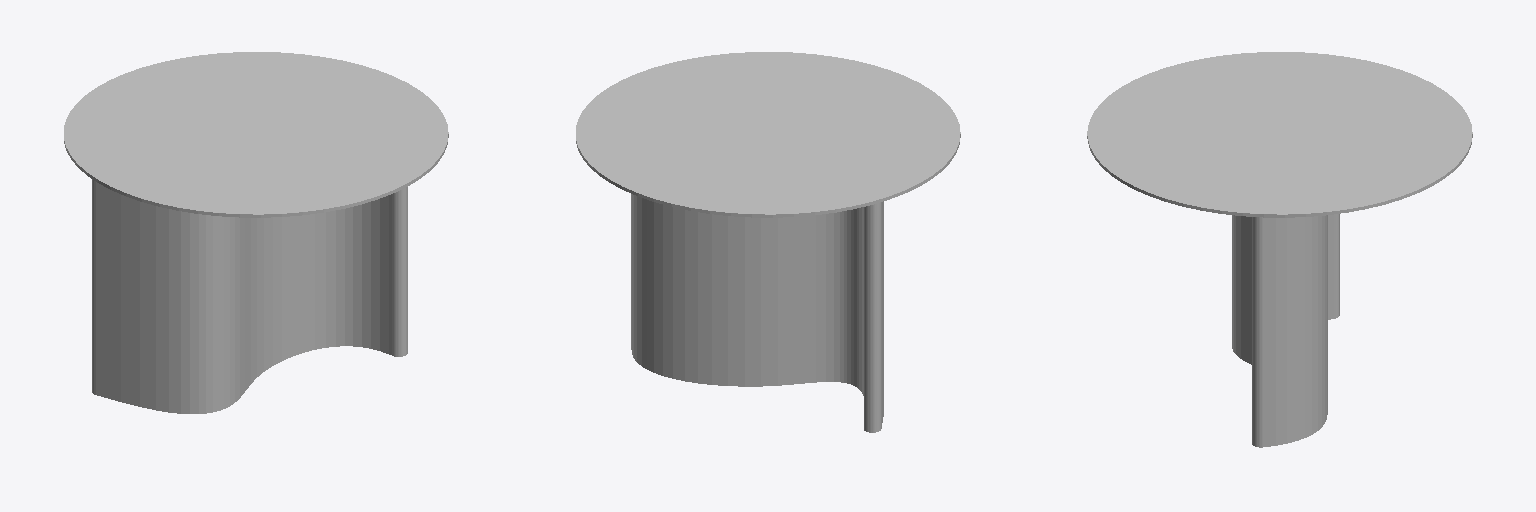
The model's file is table.obj.
The picture shows the model from 3 angles: view 1: azimuth 30°, elevation 25°; view 2: azimuth 150°, elevation 25°; view 3: azimuth 270°, elevation 25°; orthographic projection.
Bounding box in the file's own units: 216 × 152 × 216.